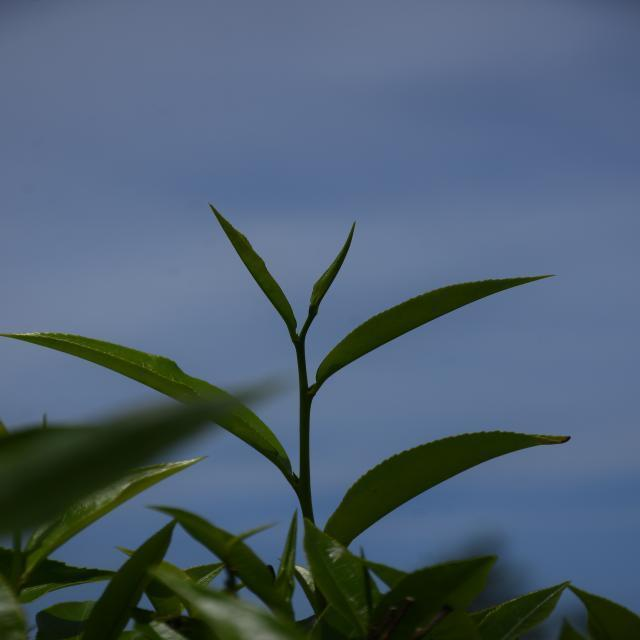Stem: (296, 338, 304, 352)
